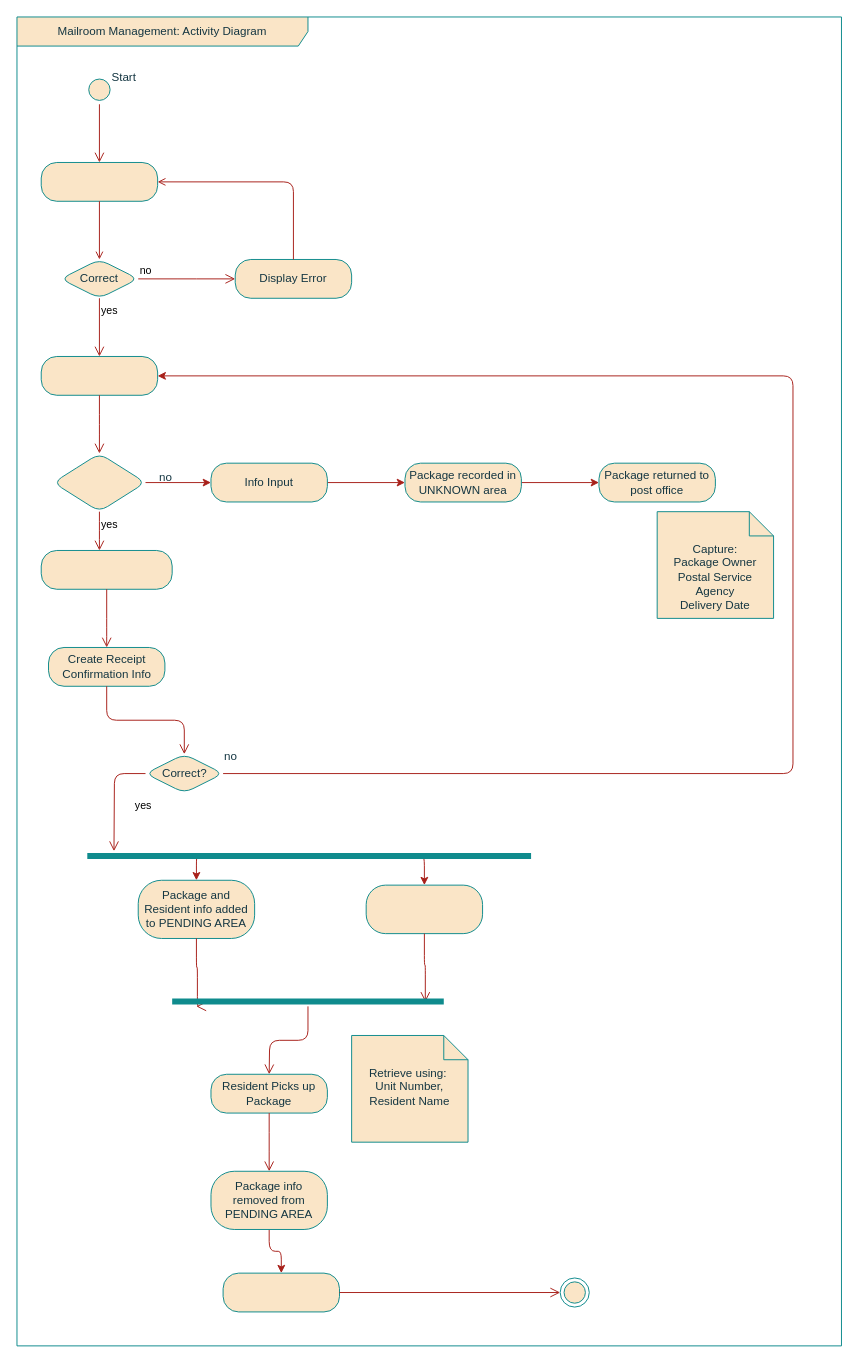
This 858x1363 diagram has some shape labels left out. The centre of each missing label's shape, as x and y in pixels:
"Email Notification sent to Resident" goes at point (424, 909).
"Log In to app" goes at point (99, 181).
"Package Info Updated" goes at point (281, 1292).
"Resident Identified?" goes at point (99, 482).
"Search for Resident" goes at point (99, 375).
"Select Resident & Postal Service Agency" goes at point (106, 569).
